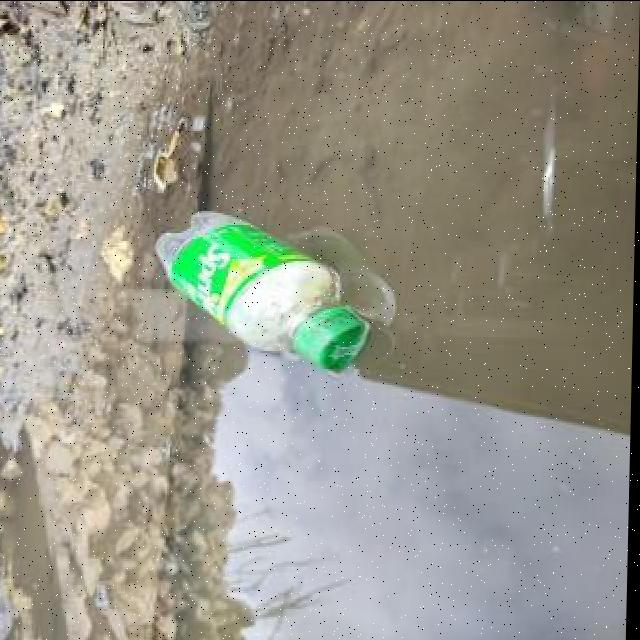bottle: (149, 206, 379, 372)
